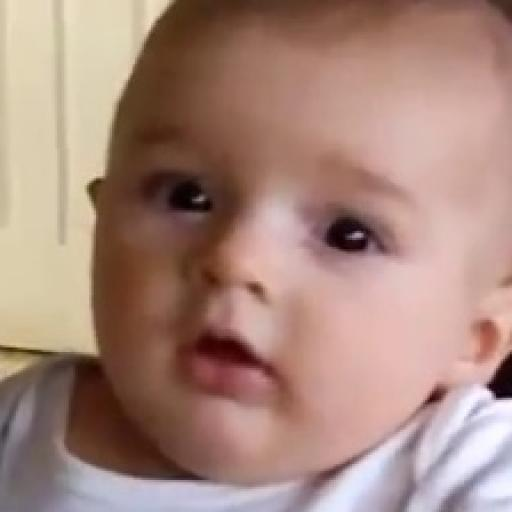Autism: (80, 10, 512, 467)
